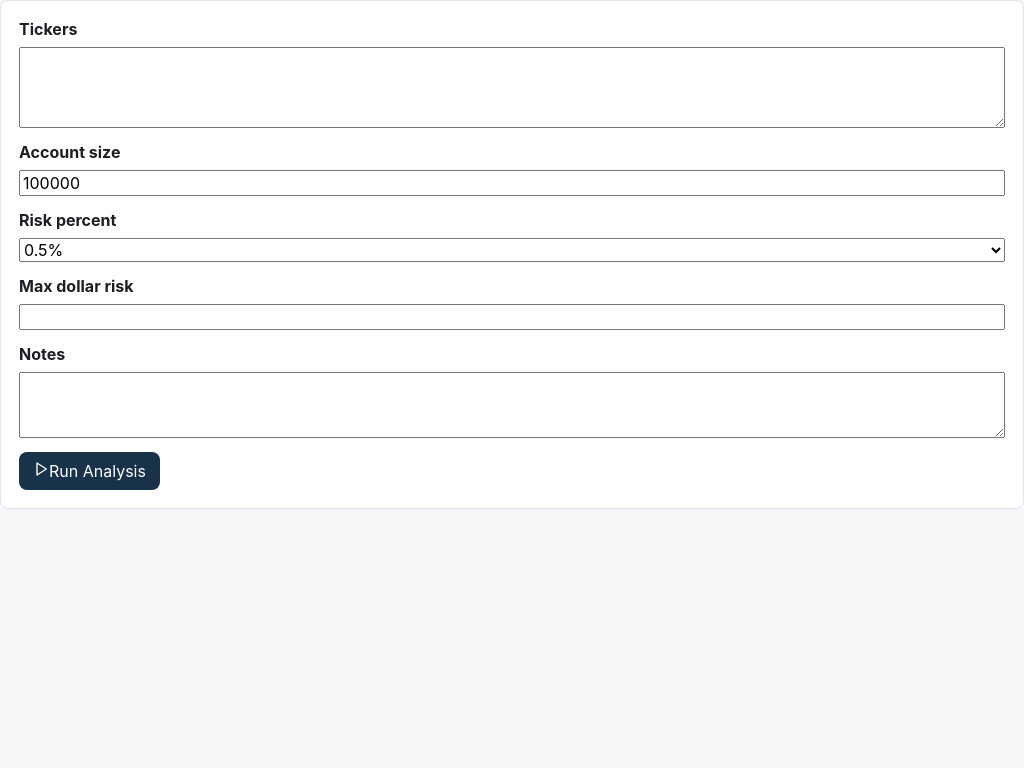
Test case: TickerInputPanel › shows a validation error for empty tickers and does not submit
The width and height of the screenshot is (1024, 768).
Click the button "Run Analysis" at x=89, y=471, box [19,452,160,490]
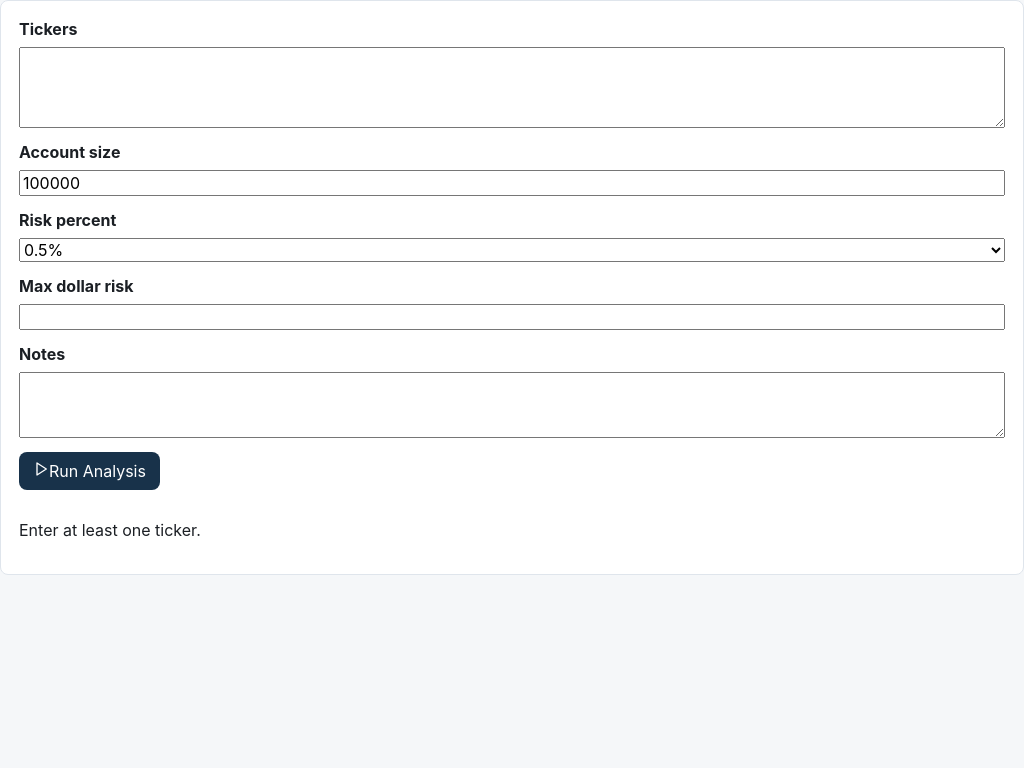
Expected: the message reads "Enter at least one ticker.", [19,520,201,540]
